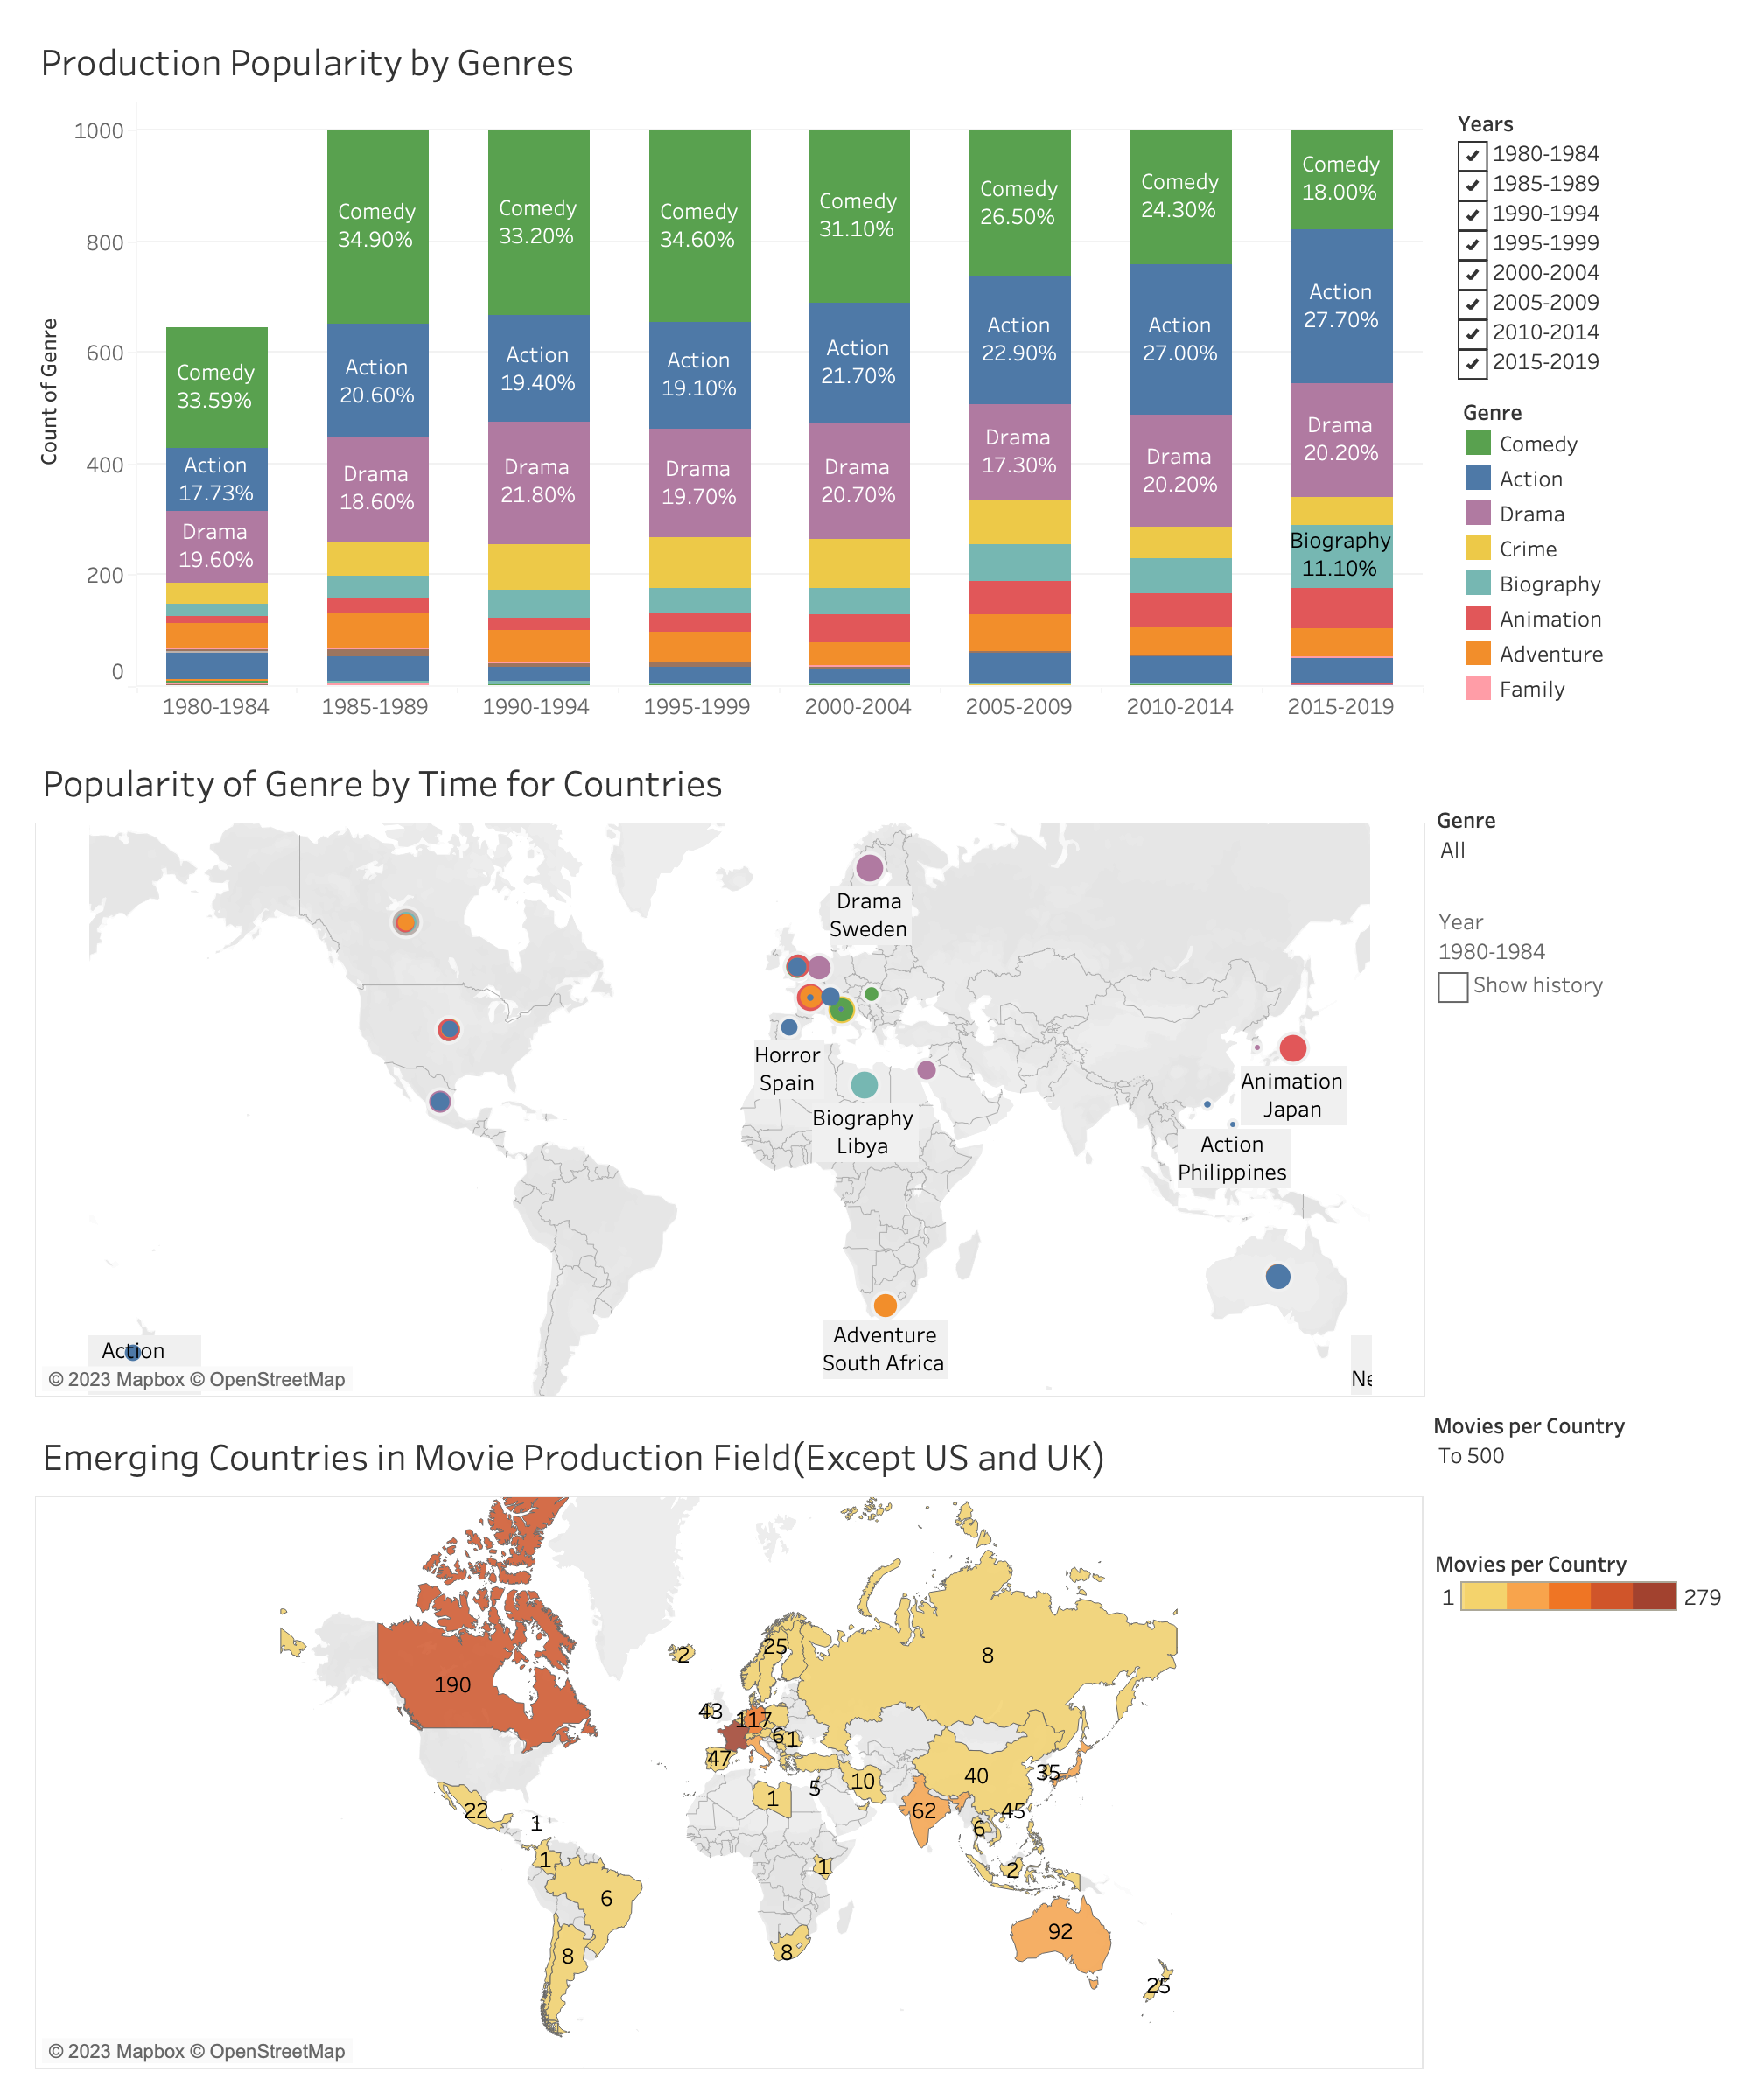

The page's visual inventory and layout, read from the dashboard file:
{"tool":"tableau","page":{"name":"DBM 02","canvas":[1000,1200],"ordinal":1},"visuals":[{"type":"worksheet","title":"V03-01","mark":"Automatic","rows":["Genre"],"box":[19,15,794,398]},{"type":"filter","title":"V03-01","param":"[federated.07oumet1suogtf10xr3mq0r8cats].[Year (group)]","box":[833,61,138,156]},{"type":"legend","title":"V03-01","param":"[federated.07oumet1suogtf10xr3mq0r8cats].[none:Genre:nk]","box":[835,225,140,176]},{"type":"worksheet","title":"V03-02","mark":"Automatic","box":[20,427,795,372]},{"type":"filter","title":"V03-02","param":"[federated.07oumet1suogtf10xr3mq0r8cats].[none:Genre:nk]","box":[821,459,168,52]},{"type":"currpage","title":"V03-02","box":[822,517,165,110]},{"type":"filter","title":"V04-01","param":"[federated.07oumet1suogtf10xr3mq0r8cats].[usr:Calculation_235946422347788288:qk]","box":[819,805,168,69]},{"type":"worksheet","title":"V04-01","mark":"Automatic","box":[20,812,794,371]},{"type":"legend","title":"V04-01","param":"[federated.07oumet1suogtf10xr3mq0r8cats].[usr:Calculation_235946422347788288:qk]","box":[820,881,169,76]}]}

Visuals, with their boxes in screenshot pixels (x1, y1, x2, y2), scaled from the page's 1000x1200 canvas onto the 1750x2100 screenshot:
"V03-01" worksheet: crop(33, 26, 1423, 723)
"V03-01" filter: crop(1458, 107, 1699, 380)
"V03-01" legend: crop(1461, 394, 1706, 702)
"V03-02" worksheet: crop(35, 747, 1426, 1398)
"V03-02" filter: crop(1437, 803, 1731, 894)
"V03-02" currpage: crop(1438, 905, 1727, 1097)
"V04-01" filter: crop(1433, 1409, 1727, 1529)
"V04-01" worksheet: crop(35, 1421, 1424, 2070)
"V04-01" legend: crop(1435, 1542, 1731, 1675)
